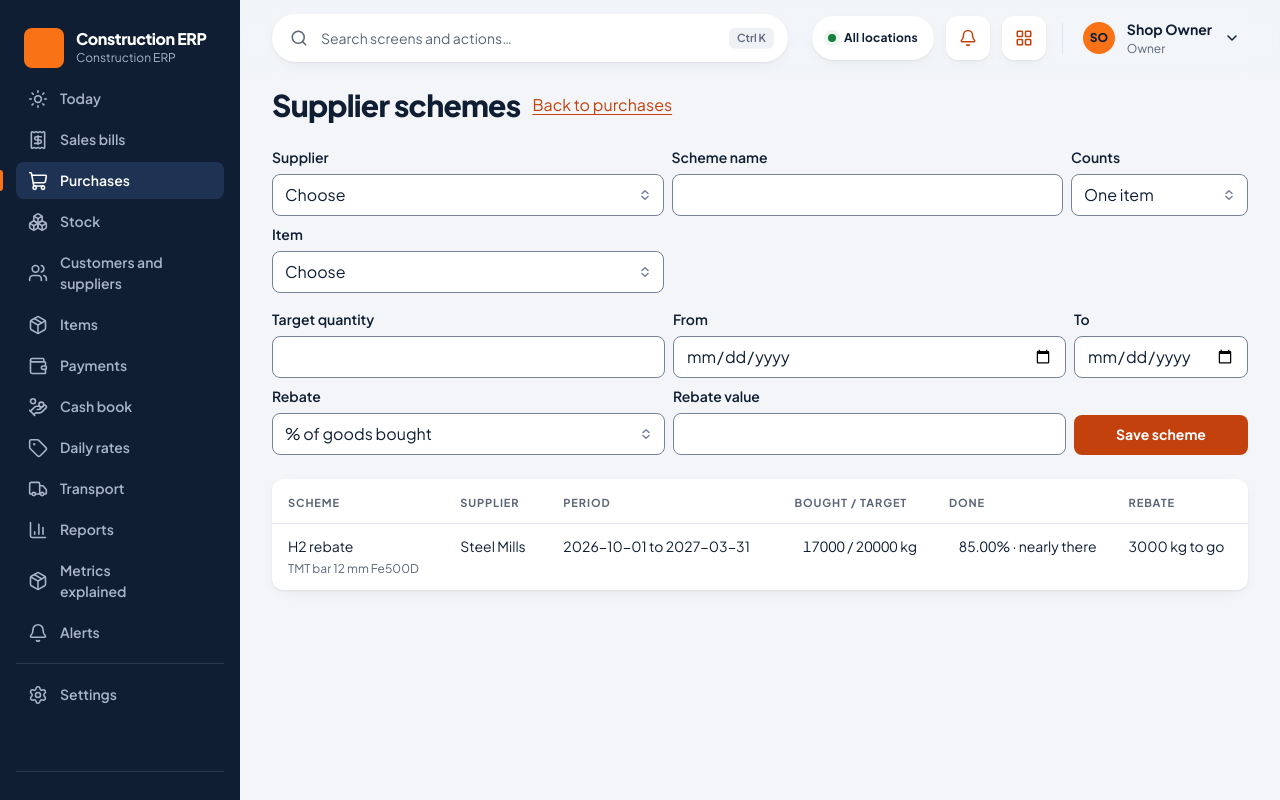
Test: Supplier schemes › checks the form before sending and shows how far a scheme has to go
Expected: the text "3000 kg to go" is shown, [1113,524,1248,590]
Expected: the text "85.00% · nearly there" is shown, [933,524,1113,590]
Step 1. Click the button "Save scheme" → (1161, 434), box [1074,414,1248,454]
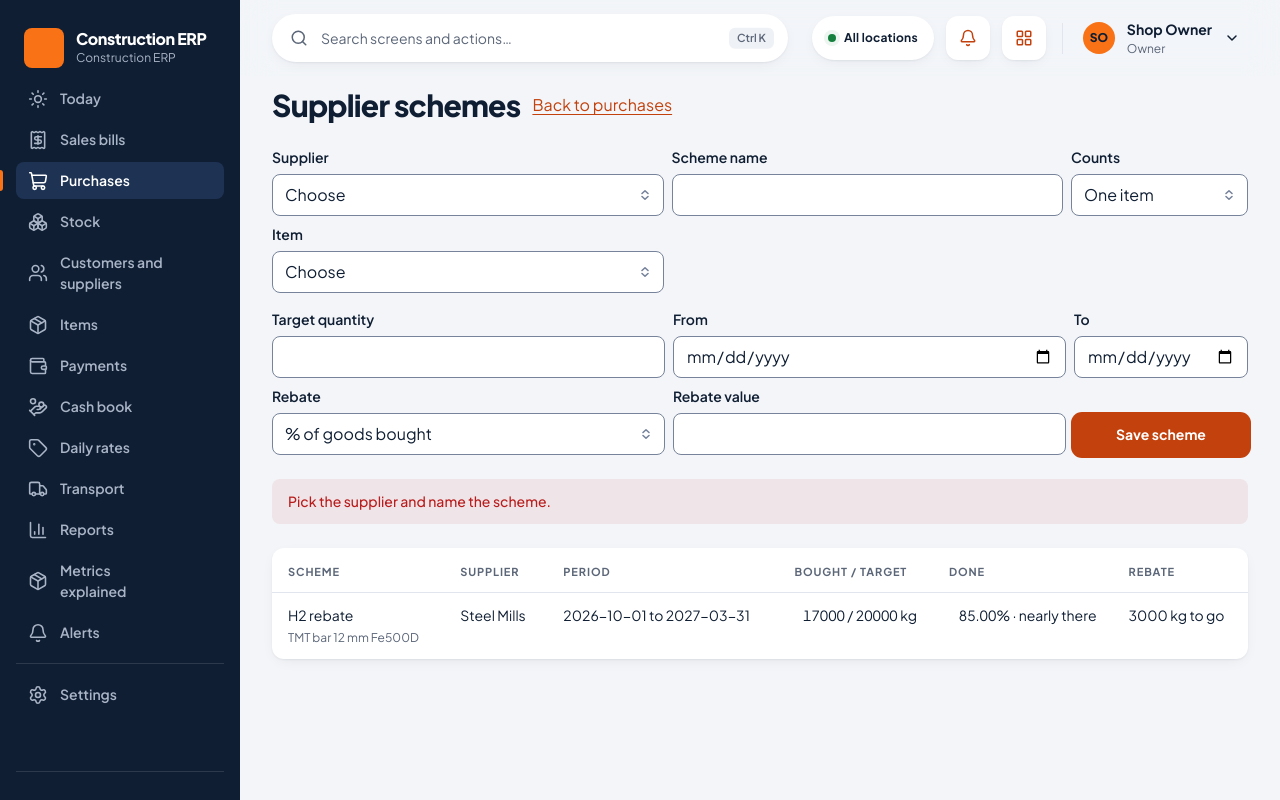
Expected: the text "Pick the supplier and name the scheme." is shown, [272,478,1248,524]
